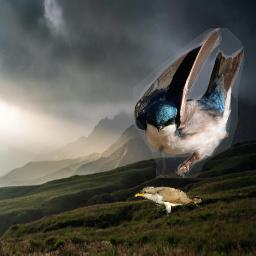Cuckoo: (133, 186, 203, 219)
Swallow: (133, 28, 245, 178)
